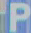Parking: (8, 0, 29, 32)
